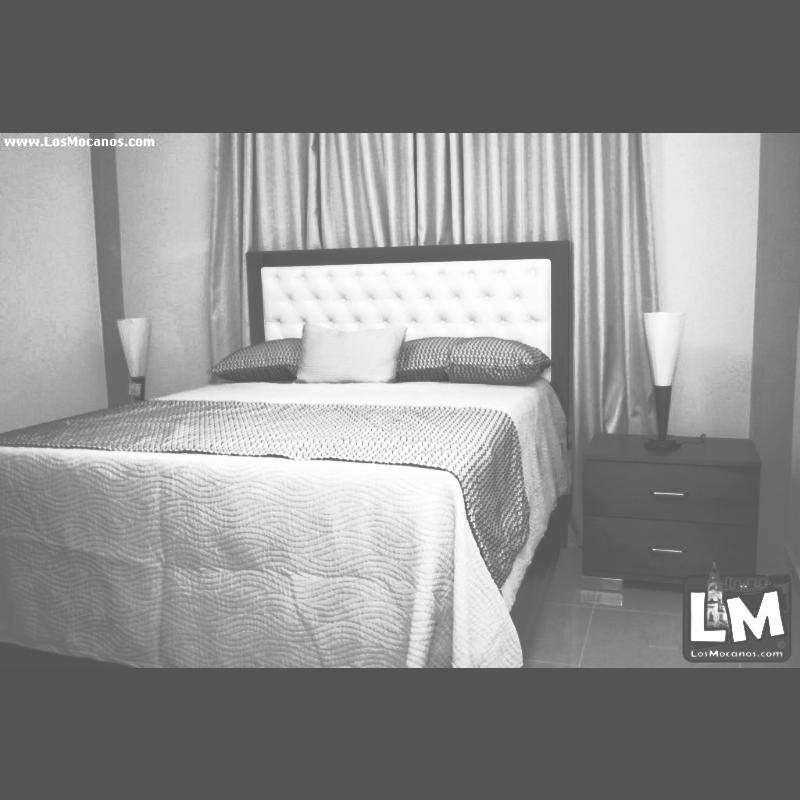pillow: (393, 332, 547, 378), (295, 320, 405, 382), (210, 334, 299, 382)
